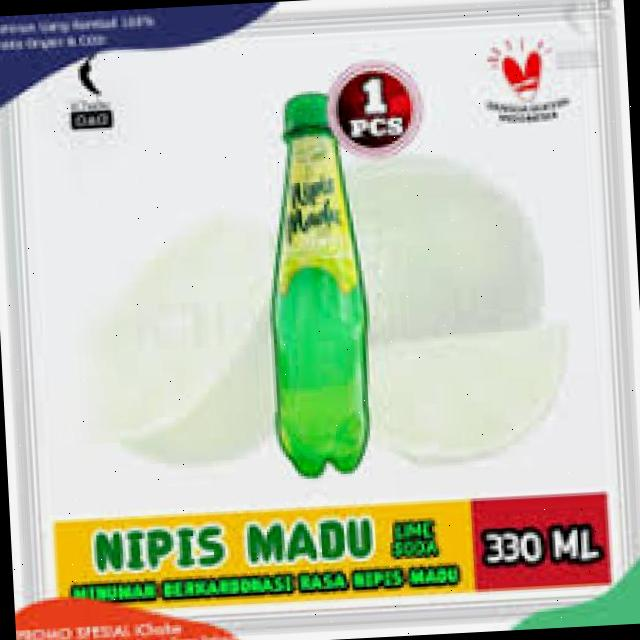bottle: (242, 74, 402, 482)
cap: (274, 88, 334, 136)
